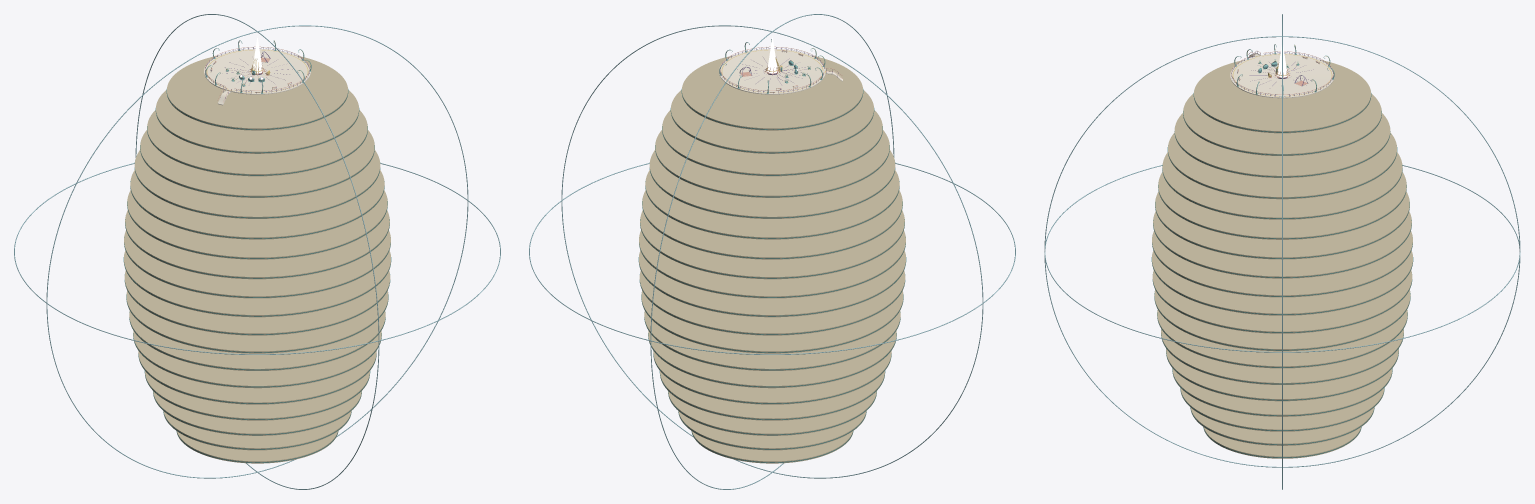
The model's file is ship_dimensions_dense_v1.glb.
3 views of the same model, side by side, from view 1: azimuth 30°, elevation 25°; view 2: azimuth 150°, elevation 25°; view 3: azimuth 270°, elevation 25° (orthographic). The views are drawn at different scales.
Visible parts, largest first — view 1: Deck 01 top 73.5m, Deck 06 top 31m, Deck 05 top 39.5m, Deck 07 top 22.5m, Deck 04 top 48m, Deck 08 top 14m, Deck 03 top 56.5m, Deck 09 top 5.5m, Deck 02 top 65m, Deck 10 top -3m, Deck 11 top -11.5m, Deck 12 top -20m (+11 smaller); view 2: Deck 01 top 73.5m, Deck 06 top 31m, Deck 05 top 39.5m, Deck 07 top 22.5m, Deck 04 top 48m, Deck 08 top 14m, Deck 03 top 56.5m, Deck 09 top 5.5m, Deck 02 top 65m, Deck 10 top -3m, Deck 11 top -11.5m, Deck 12 top -20m (+11 smaller); view 3: Deck 01 top 73.5m, Deck 05 top 39.5m, Deck 06 top 31m, Deck 07 top 22.5m, Deck 04 top 48m, Deck 08 top 14m, Deck 03 top 56.5m, Deck 09 top 5.5m, Deck 02 top 65m, Deck 10 top -3m, Deck 11 top -11.5m, Deck 12 top -20m (+10 smaller).
Part boxes in pixels (x1,y1,x2,y2): Deck 01 top 73.5m: [167, 55, 347, 130]; Deck 06 top 31m: [130, 170, 384, 239]; Deck 05 top 39.5m: [134, 150, 380, 218]; Deck 07 top 22.5m: [127, 190, 387, 259]; Deck 04 top 48m: [140, 130, 374, 197]; Deck 08 top 14m: [125, 210, 389, 279]; Deck 03 top 56.5m: [147, 110, 367, 176]; Deck 09 top 5.5m: [124, 230, 390, 298]; Deck 02 top 65m: [156, 90, 358, 153]; Deck 10 top -3m: [124, 250, 390, 317]; Deck 11 top -11.5m: [124, 270, 390, 335]; Deck 12 top -20m: [126, 291, 388, 353]; Deck 01 top 73.5m: [682, 55, 862, 130]; Deck 06 top 31m: [645, 170, 899, 239]; Deck 05 top 39.5m: [649, 150, 895, 218]; Deck 07 top 22.5m: [642, 190, 902, 259]; Deck 04 top 48m: [655, 130, 889, 197]; Deck 08 top 14m: [640, 210, 904, 279]; Deck 03 top 56.5m: [662, 110, 882, 176]; Deck 09 top 5.5m: [639, 230, 905, 298]; Deck 02 top 65m: [671, 90, 873, 153]; Deck 10 top -3m: [639, 250, 905, 317]; Deck 11 top -11.5m: [639, 270, 905, 335]; Deck 12 top -20m: [641, 291, 903, 353]; Deck 01 top 73.5m: [1194, 59, 1370, 133]; Deck 05 top 39.5m: [1162, 152, 1402, 219]; Deck 06 top 31m: [1158, 172, 1406, 239]; Deck 07 top 22.5m: [1155, 191, 1409, 259]; Deck 04 top 48m: [1168, 132, 1396, 199]; Deck 08 top 14m: [1153, 211, 1411, 278]; Deck 03 top 56.5m: [1174, 113, 1390, 177]; Deck 09 top 5.5m: [1152, 231, 1412, 297]; Deck 02 top 65m: [1183, 93, 1381, 155]; Deck 10 top -3m: [1152, 251, 1412, 315]; Deck 11 top -11.5m: [1152, 270, 1412, 333]; Deck 12 top -20m: [1154, 290, 1410, 351].
Size of the model in its own units: 200 by 200 by 200.
